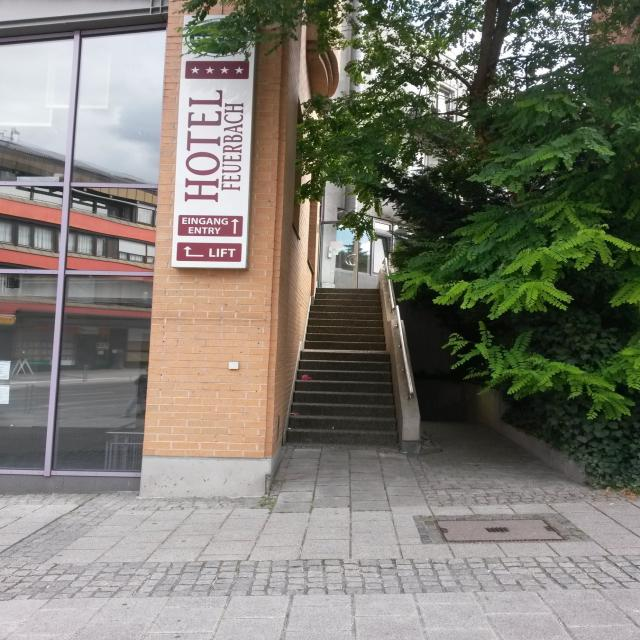AVOID: (286, 286, 400, 449)
